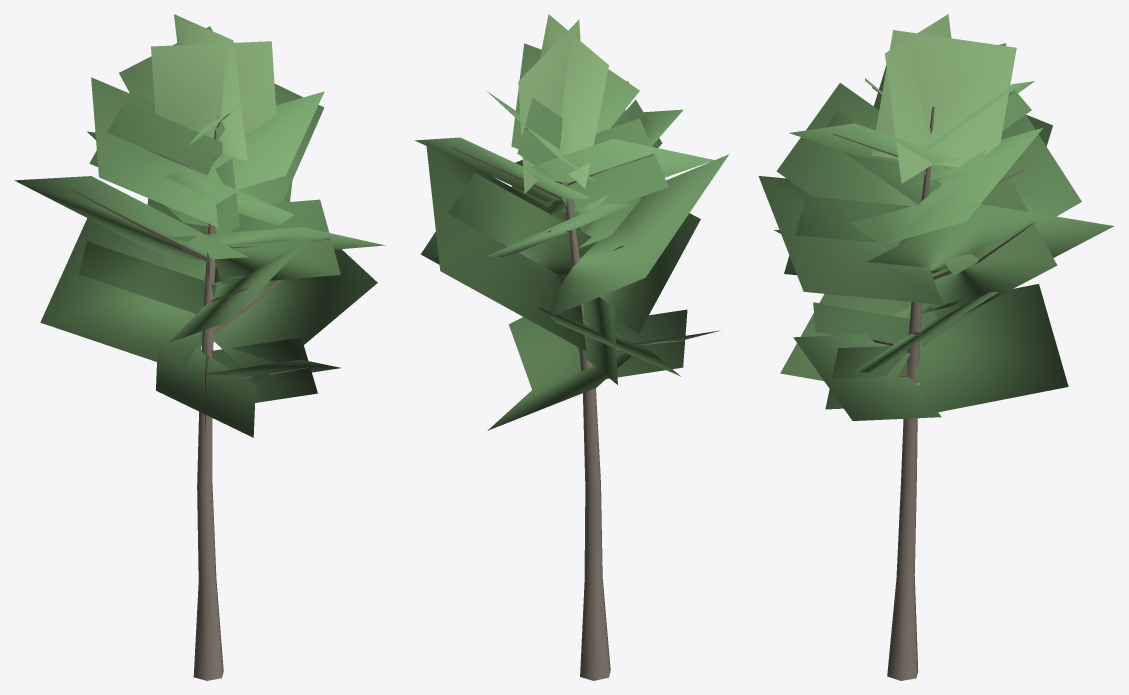
Rendered from tree_pine_b_lod1.glb.
The picture shows the model from 3 angles, left to right: view 1: azimuth 30°, elevation 25°; view 2: azimuth 150°, elevation 25°; view 3: azimuth 270°, elevation 25°; orthographic projection. The views are drawn at different scales.
Parts seen in each view (by area): view 1: tree_pine_b_lod1; view 2: tree_pine_b_lod1; view 3: tree_pine_b_lod1.
Part boxes in pixels (x1,y1,x2,y2): tree_pine_b_lod1: [14, 14, 385, 680]; tree_pine_b_lod1: [415, 14, 728, 680]; tree_pine_b_lod1: [758, 14, 1113, 680].
Bounding box in the file's own units: 7.69 × 16.61 × 8.19.
